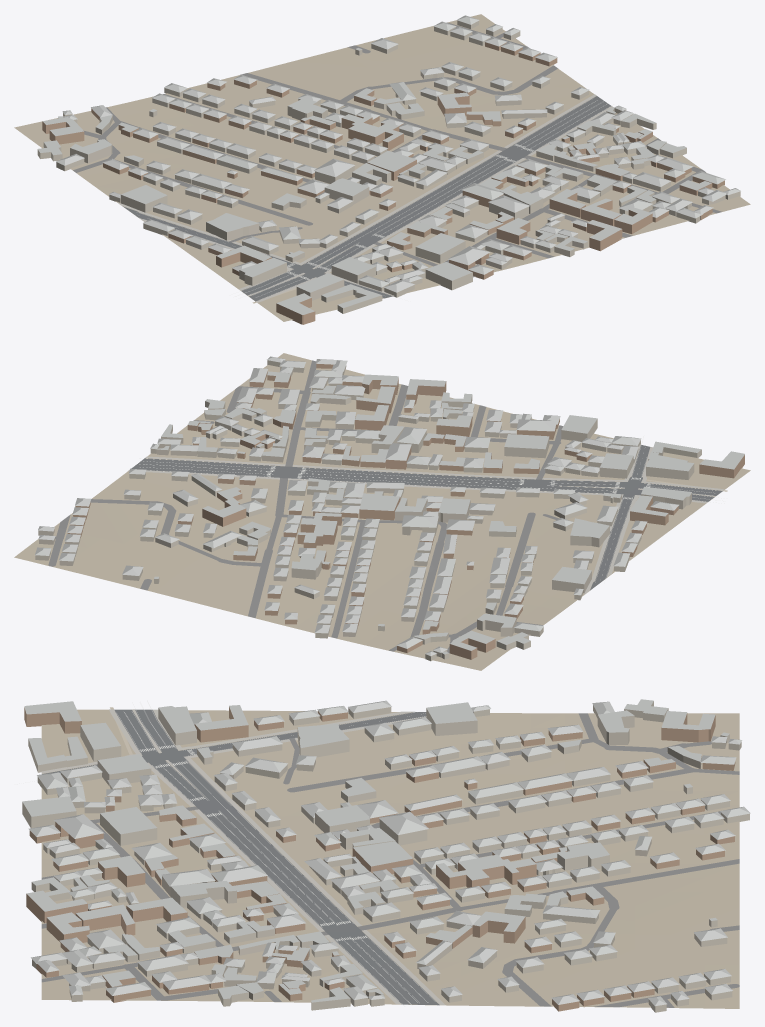
The model's file is bolak_0_4.glb.
3 renders of one model, top to bottom at view 1: azimuth 30°, elevation 25°; view 2: azimuth 150°, elevation 25°; view 3: azimuth 270°, elevation 25°, orthographic. The views are drawn at different scales.
Parts seen in each view (by area): view 1: Yer_Tuproq-col, Tom_Shifer, Devor_Suvoq-col, Devor_Gisht-col, Yol_Asfalt-col, Yol_Mahalla-col, Trotuar, Yol_Chiziq; view 2: Yer_Tuproq-col, Tom_Shifer, Devor_Suvoq-col, Devor_Gisht-col, Yol_Mahalla-col, Yol_Asfalt-col, Trotuar, Yol_Chiziq; view 3: Yer_Tuproq-col, Tom_Shifer, Devor_Suvoq-col, Devor_Gisht-col, Yol_Asfalt-col, Yol_Mahalla-col, Trotuar, Yol_Chiziq.
Part boxes in pixels (left/top/right/bottom): Yer_Tuproq-col: left=14, top=14, right=750, bottom=321; Tom_Shifer: left=38, top=15, right=740, bottom=314; Devor_Suvoq-col: left=37, top=20, right=740, bottom=313; Devor_Gisht-col: left=42, top=42, right=724, bottom=324; Yol_Asfalt-col: left=123, top=96, right=610, bottom=301; Yol_Mahalla-col: left=73, top=22, right=721, bottom=277; Trotuar: left=117, top=94, right=613, bottom=302; Yol_Chiziq: left=235, top=100, right=613, bottom=298; Yer_Tuproq-col: left=14, top=353, right=750, bottom=670; Tom_Shifer: left=35, top=356, right=744, bottom=656; Devor_Suvoq-col: left=35, top=360, right=701, bottom=661; Devor_Gisht-col: left=67, top=363, right=744, bottom=659; Yol_Mahalla-col: left=48, top=360, right=610, bottom=653; Yol_Asfalt-col: left=131, top=445, right=722, bottom=590; Trotuar: left=128, top=444, right=724, bottom=594; Yol_Chiziq: left=137, top=436, right=724, bottom=582; Yer_Tuproq-col: left=41, top=709, right=739, bottom=1008; Tom_Shifer: left=22, top=699, right=750, bottom=1005; Devor_Suvoq-col: left=22, top=701, right=749, bottom=1012; Devor_Gisht-col: left=24, top=707, right=735, bottom=1011; Yol_Asfalt-col: left=42, top=709, right=439, bottom=1005; Yol_Mahalla-col: left=41, top=713, right=739, bottom=1007; Trotuar: left=41, top=709, right=444, bottom=1004; Yol_Chiziq: left=17, top=700, right=435, bottom=1006.
Size of what is drawn, in the model's own units: 421 by 15.01 by 422.
